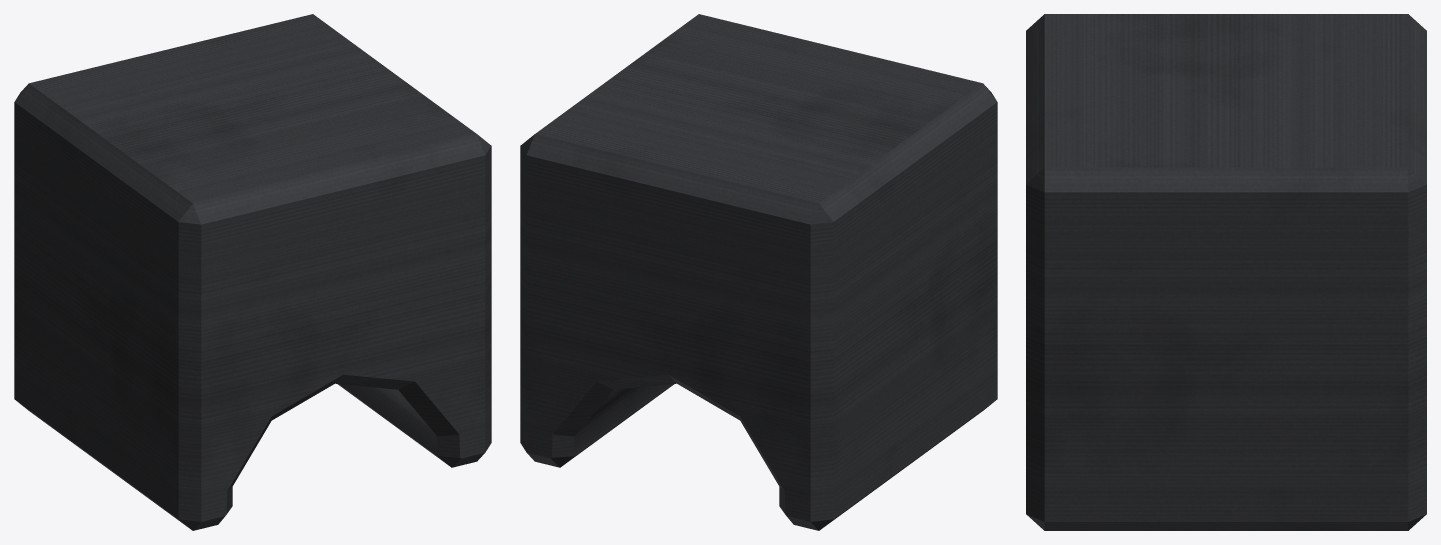
The model's file is R4B_Arch_LOD1.glb.
3 views of the same model, side by side, from view 1: azimuth 30°, elevation 25°; view 2: azimuth 150°, elevation 25°; view 3: azimuth 270°, elevation 25° (orthographic). The views are drawn at different scales.
Visible parts, largest first — view 1: R4B_Arch_LOD1; view 2: R4B_Arch_LOD1; view 3: R4B_Arch_LOD1.
Part boxes in pixels (x1,y1,x2,y2): R4B_Arch_LOD1: (14, 14, 491, 530); R4B_Arch_LOD1: (520, 14, 997, 530); R4B_Arch_LOD1: (1026, 14, 1426, 530).
Bounding box in the file's own units: 0.52 × 0.52 × 0.52.
1 material, 1 textured.
